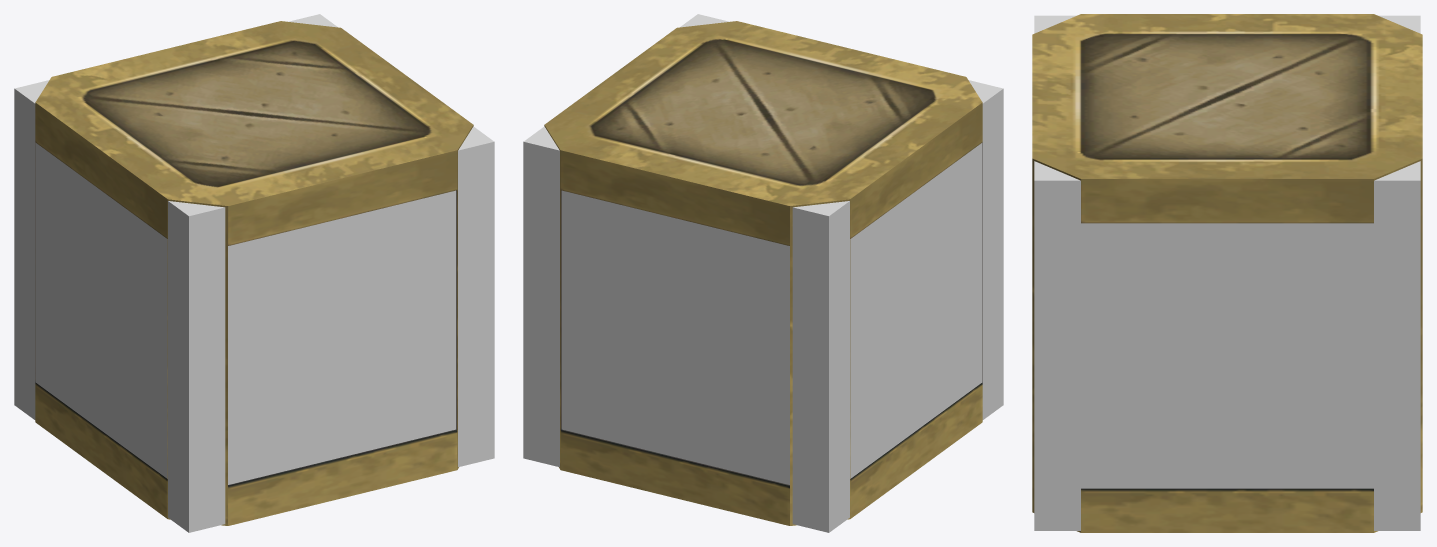
File: sol-crate.glb
3 renders of one model, left to right at view 1: azimuth 30°, elevation 25°; view 2: azimuth 150°, elevation 25°; view 3: azimuth 270°, elevation 25°, orthographic. The views are drawn at different scales.
Visible parts, largest first — view 1: cmesh, BoltCrate; view 2: cmesh, BoltCrate; view 3: cmesh, BoltCrate.
Part boxes in pixels (x1,y1,x2,y2): cmesh: [14, 14, 494, 532]; BoltCrate: [35, 21, 473, 525]; cmesh: [523, 14, 1003, 532]; BoltCrate: [544, 21, 982, 525]; cmesh: [1034, 15, 1420, 530]; BoltCrate: [1032, 14, 1422, 532].
Bounding box in the file's own units: 1.77 × 1.77 × 1.77.
Materials: 1 (1 with a texture image).
